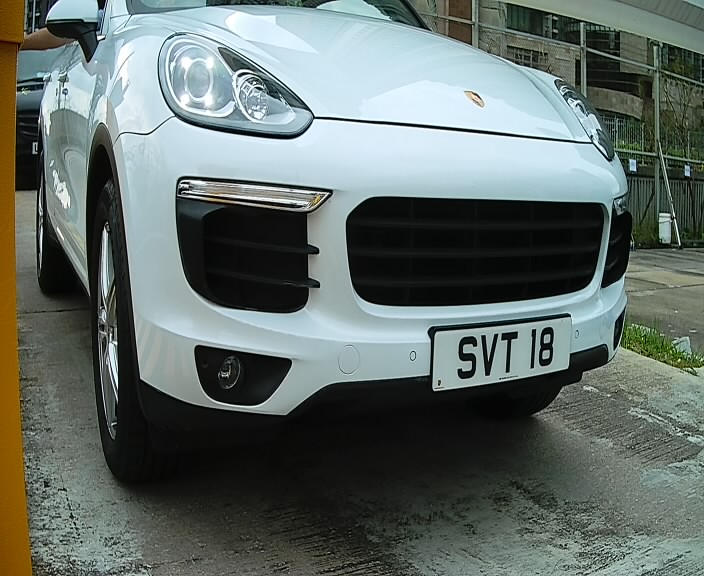Car: (32, 2, 661, 507)
License Plate: (420, 299, 587, 407)
